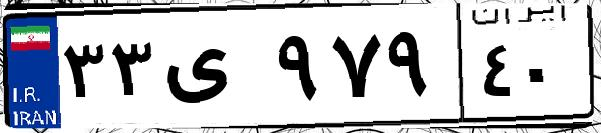0: (525, 38, 570, 115)
3: (57, 26, 110, 100), (110, 28, 158, 98)
4: (475, 38, 525, 113)
7: (330, 28, 385, 110)
9: (270, 28, 330, 110), (385, 28, 445, 110)
ی: (158, 20, 270, 120)
